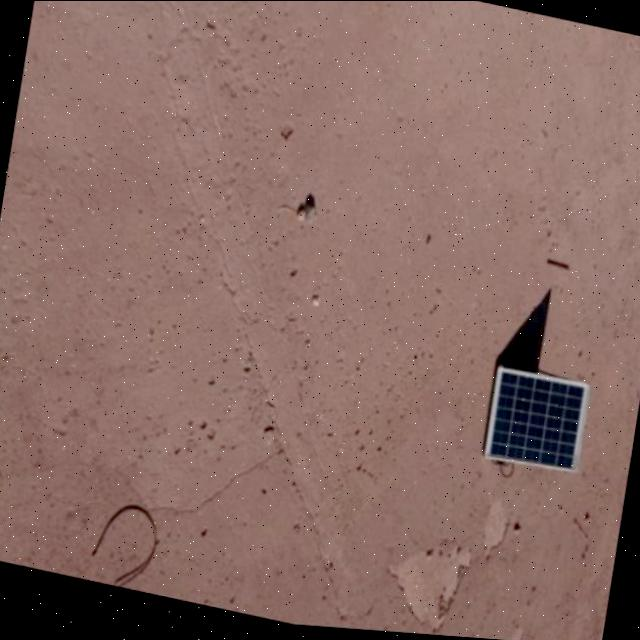Normal Solar Panel: (484, 366, 590, 476)
